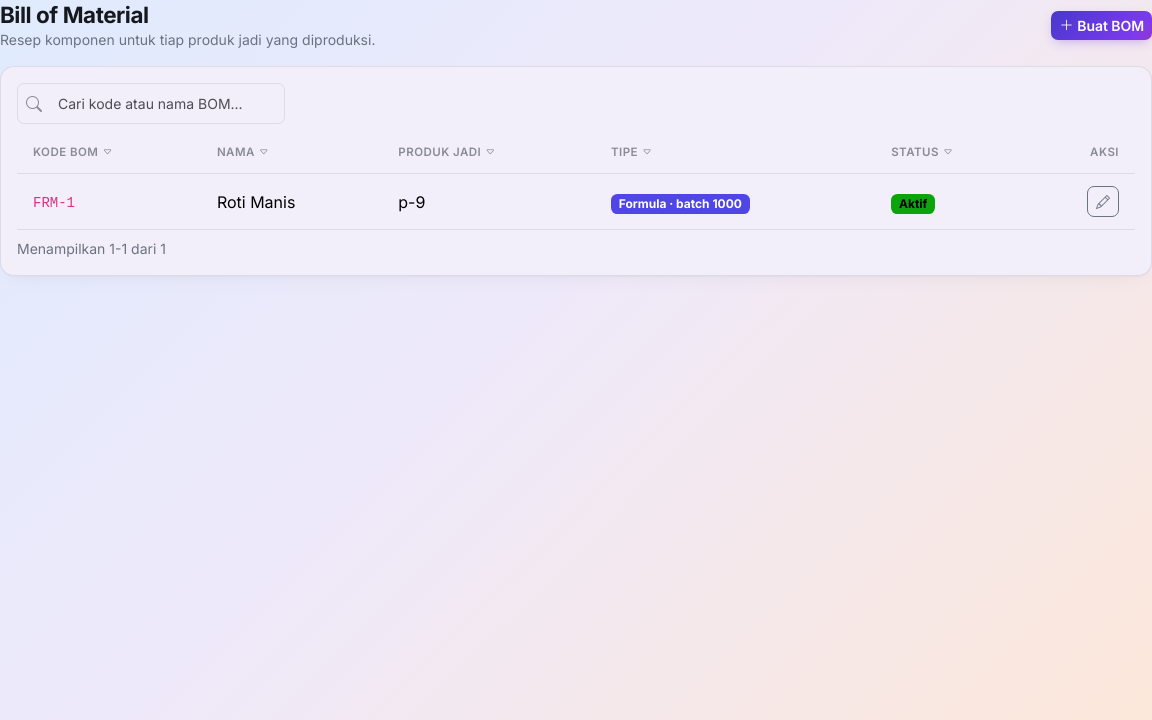
Scenario: BomPage edit › menampilkan galat backend dan tidak menutup dialog
The image size is (1152, 720).
Step 1. Click the button named "Edit BOM FRM-1" → [1103, 202], box [1087,186,1119,217]
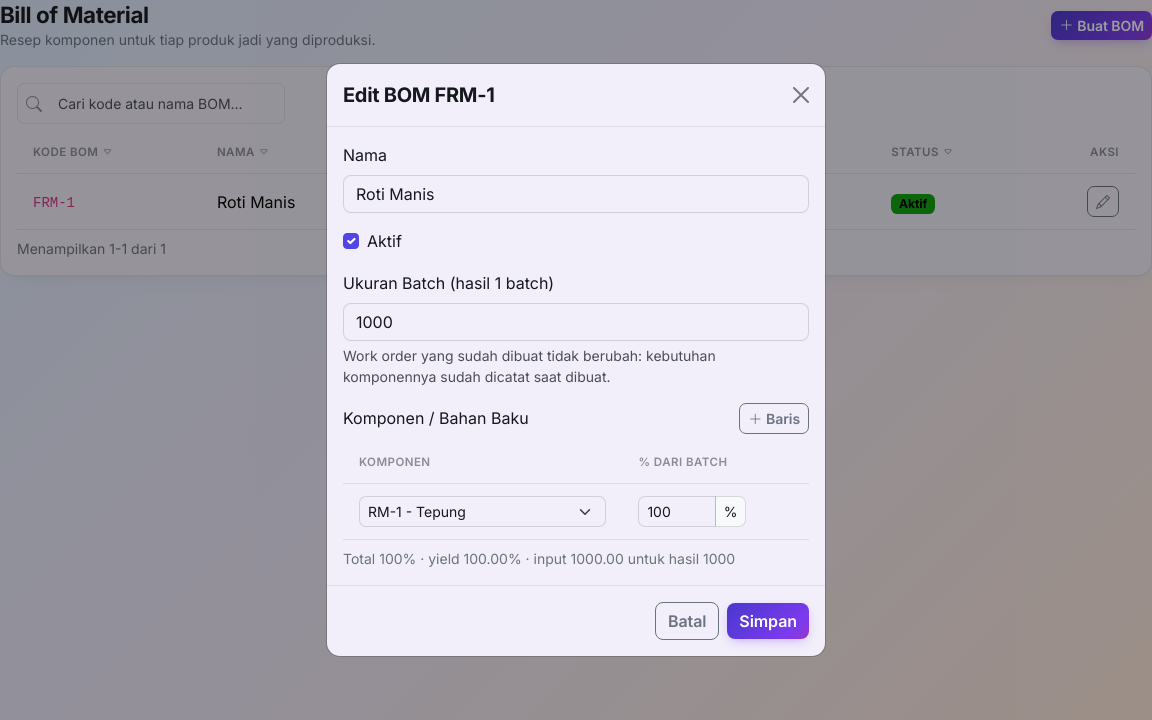
Check: the text "Total 100% · yield 100.00% · input 1000.00 untuk hasil 1000" is shown, box [343,550,735,567]
Step 2. Click the button "Simpan" → [768, 621], box [727,603,809,639]
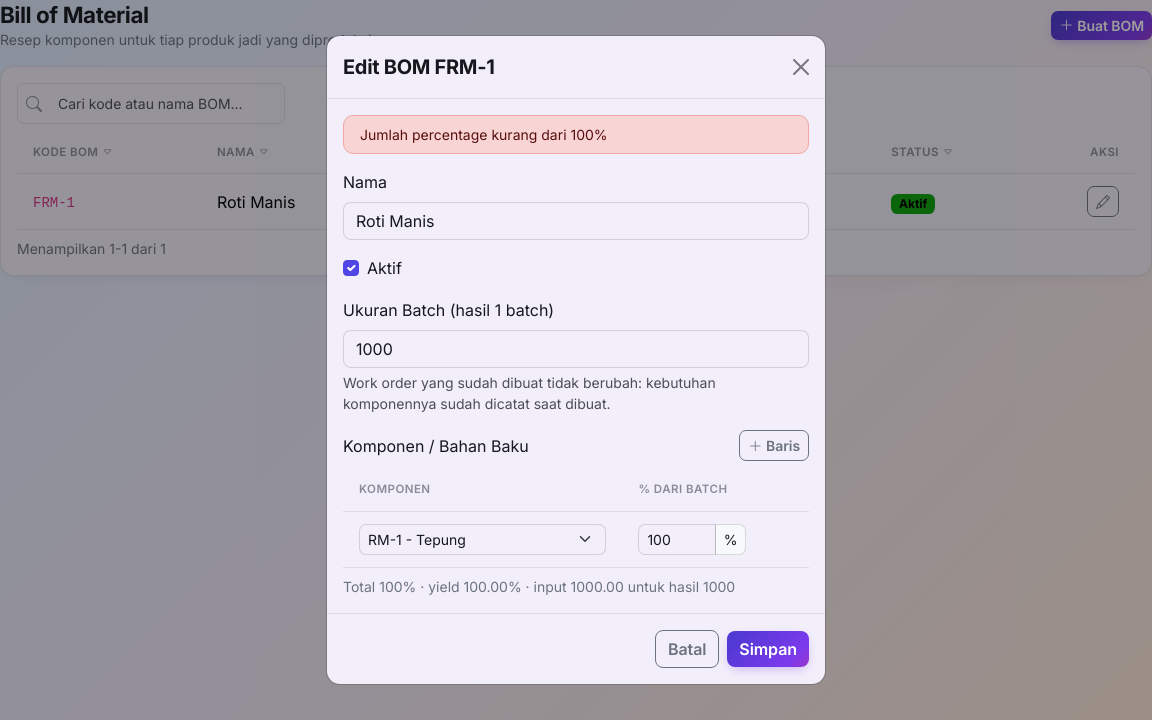
Check: the heading "Edit BOM FRM-1" is shown, box [343,52,494,82]
Check: the text "Jumlah percentage kurang dari 100%" is shown, box [343,115,809,154]
